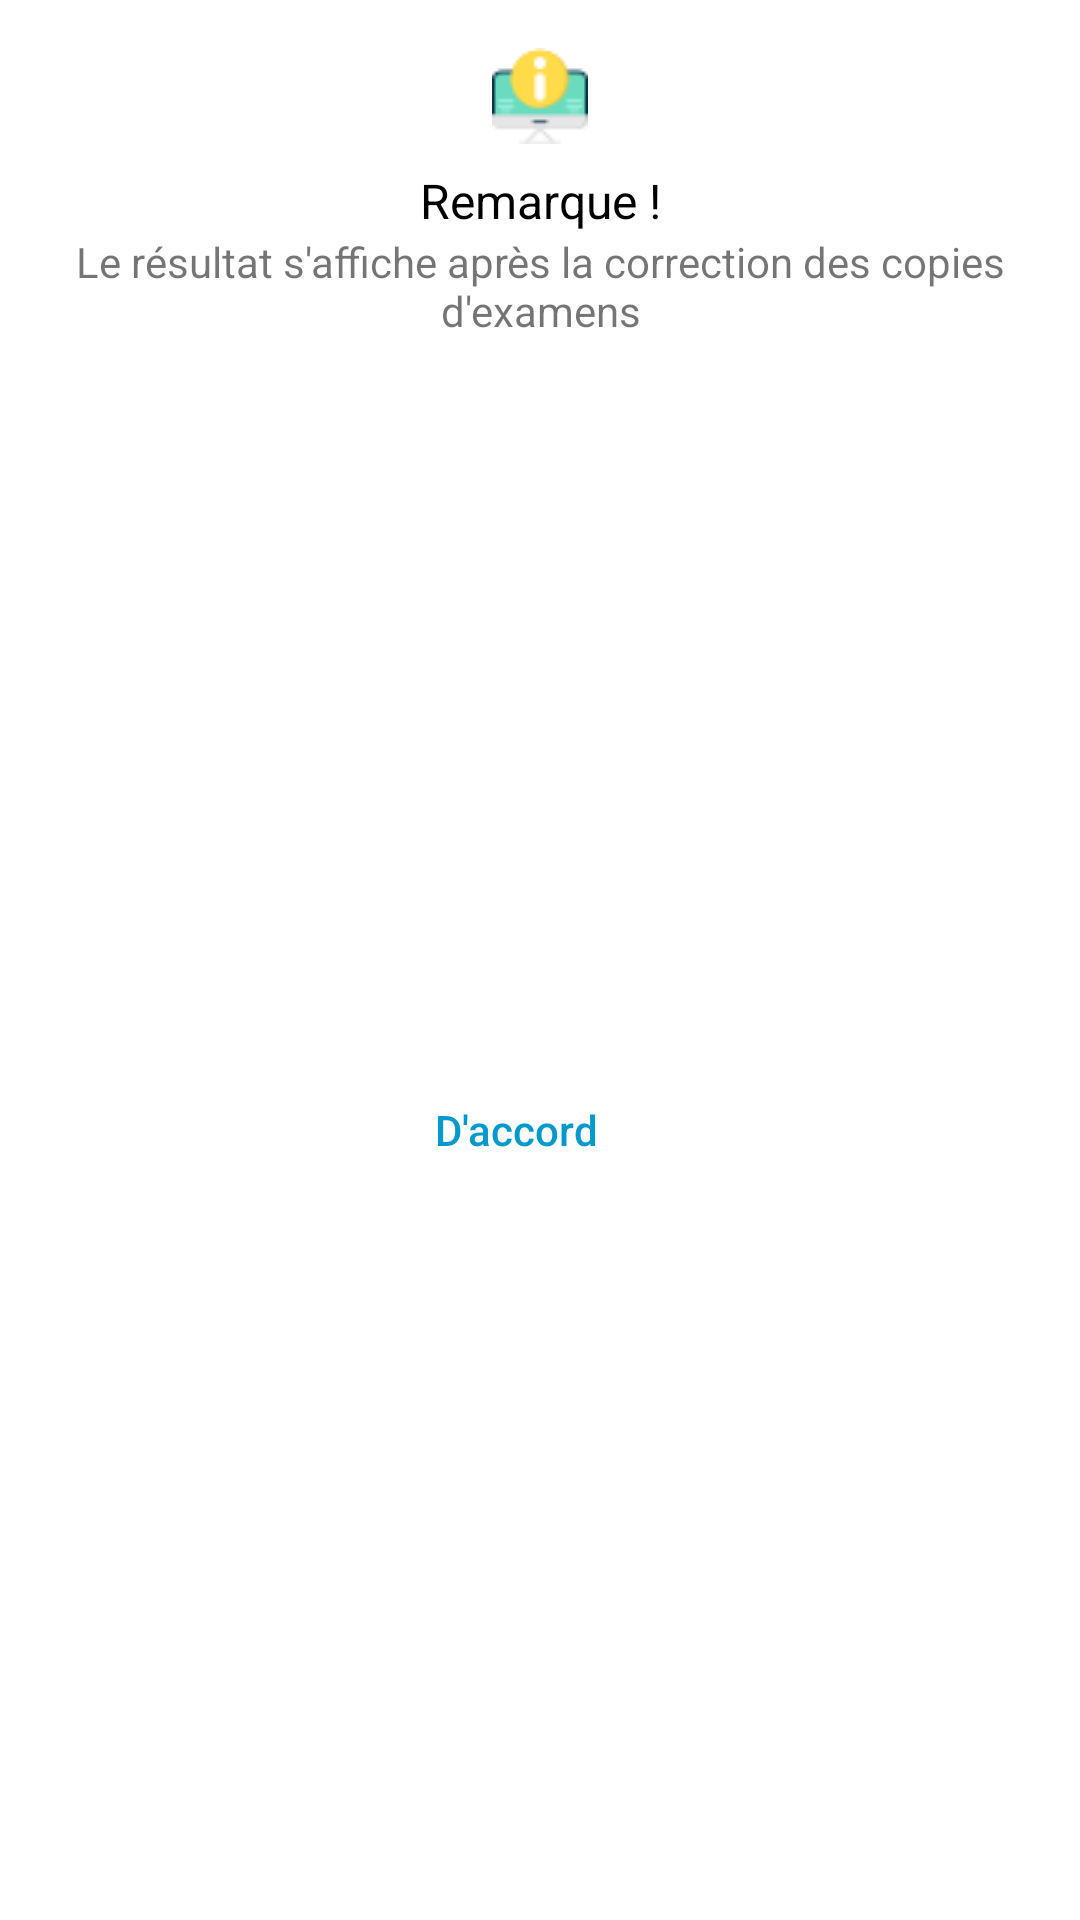

Icons on this 1080×1920 Android screen, each with its box as bbox=(x1, y1, x2, y2):
info: bbox=(492, 48, 588, 141)
